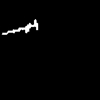double_crochet: (3, 20, 37, 34)
